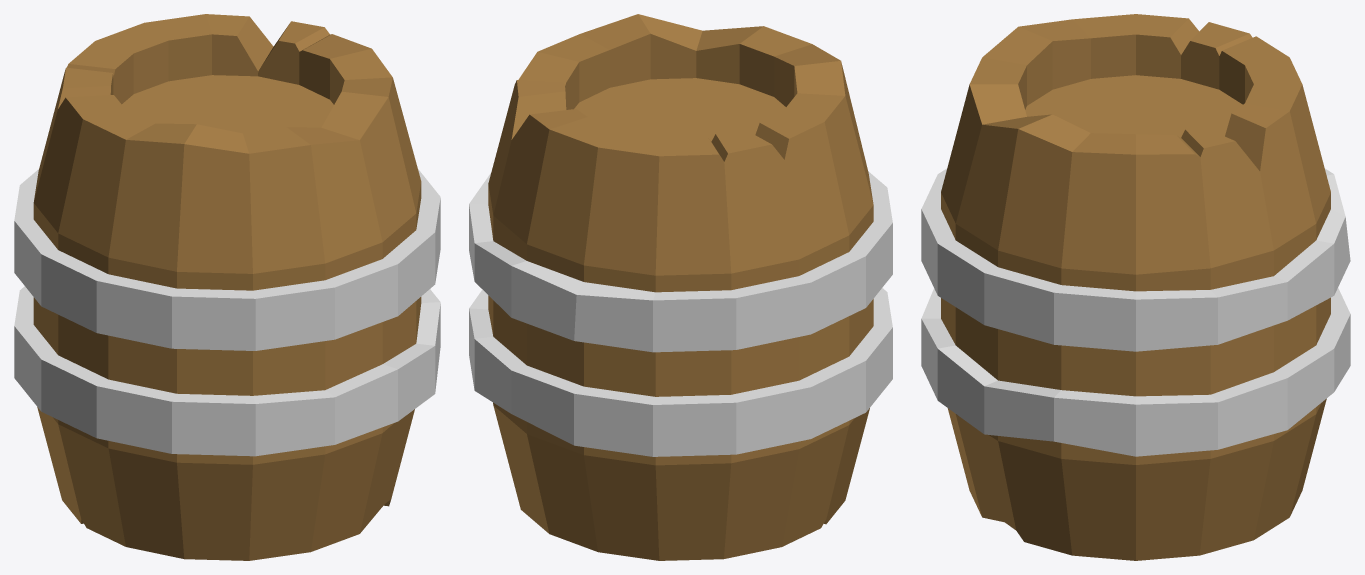
Rendered from BarrelGCGD.fbx.
3 renders of one model, left to right at view 1: azimuth 30°, elevation 25°; view 2: azimuth 150°, elevation 25°; view 3: azimuth 270°, elevation 25°, orthographic.
Visible parts, largest first — view 1: Cylinder; view 2: Cylinder; view 3: Cylinder.
Boxes of the visible parts, <box> form: Cylinder: <box>14,14,440,560</box>; Cylinder: <box>469,14,892,560</box>; Cylinder: <box>921,14,1350,560</box>.
Bounding box in the file's own units: 268 × 285 × 268.
